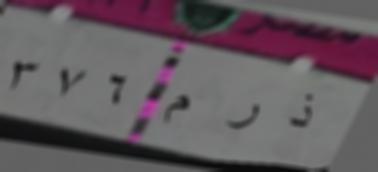3: (8, 54, 44, 95)
6: (100, 70, 140, 108)
7: (52, 61, 90, 100)
meem: (161, 86, 197, 127)
raa: (219, 99, 266, 135)
zaal: (286, 89, 324, 131)
